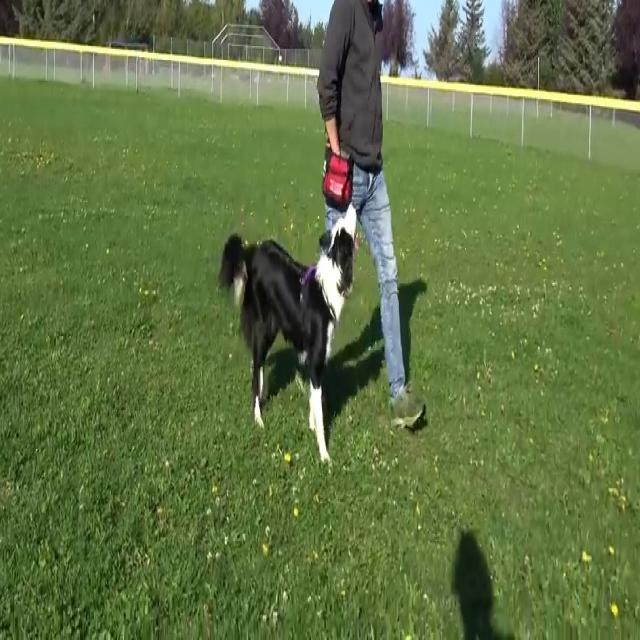Unleashed_Dog: (219, 201, 388, 464)
